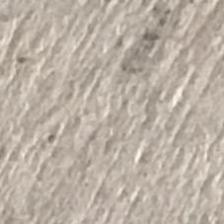Non_Crack: (22, 6, 224, 210)
